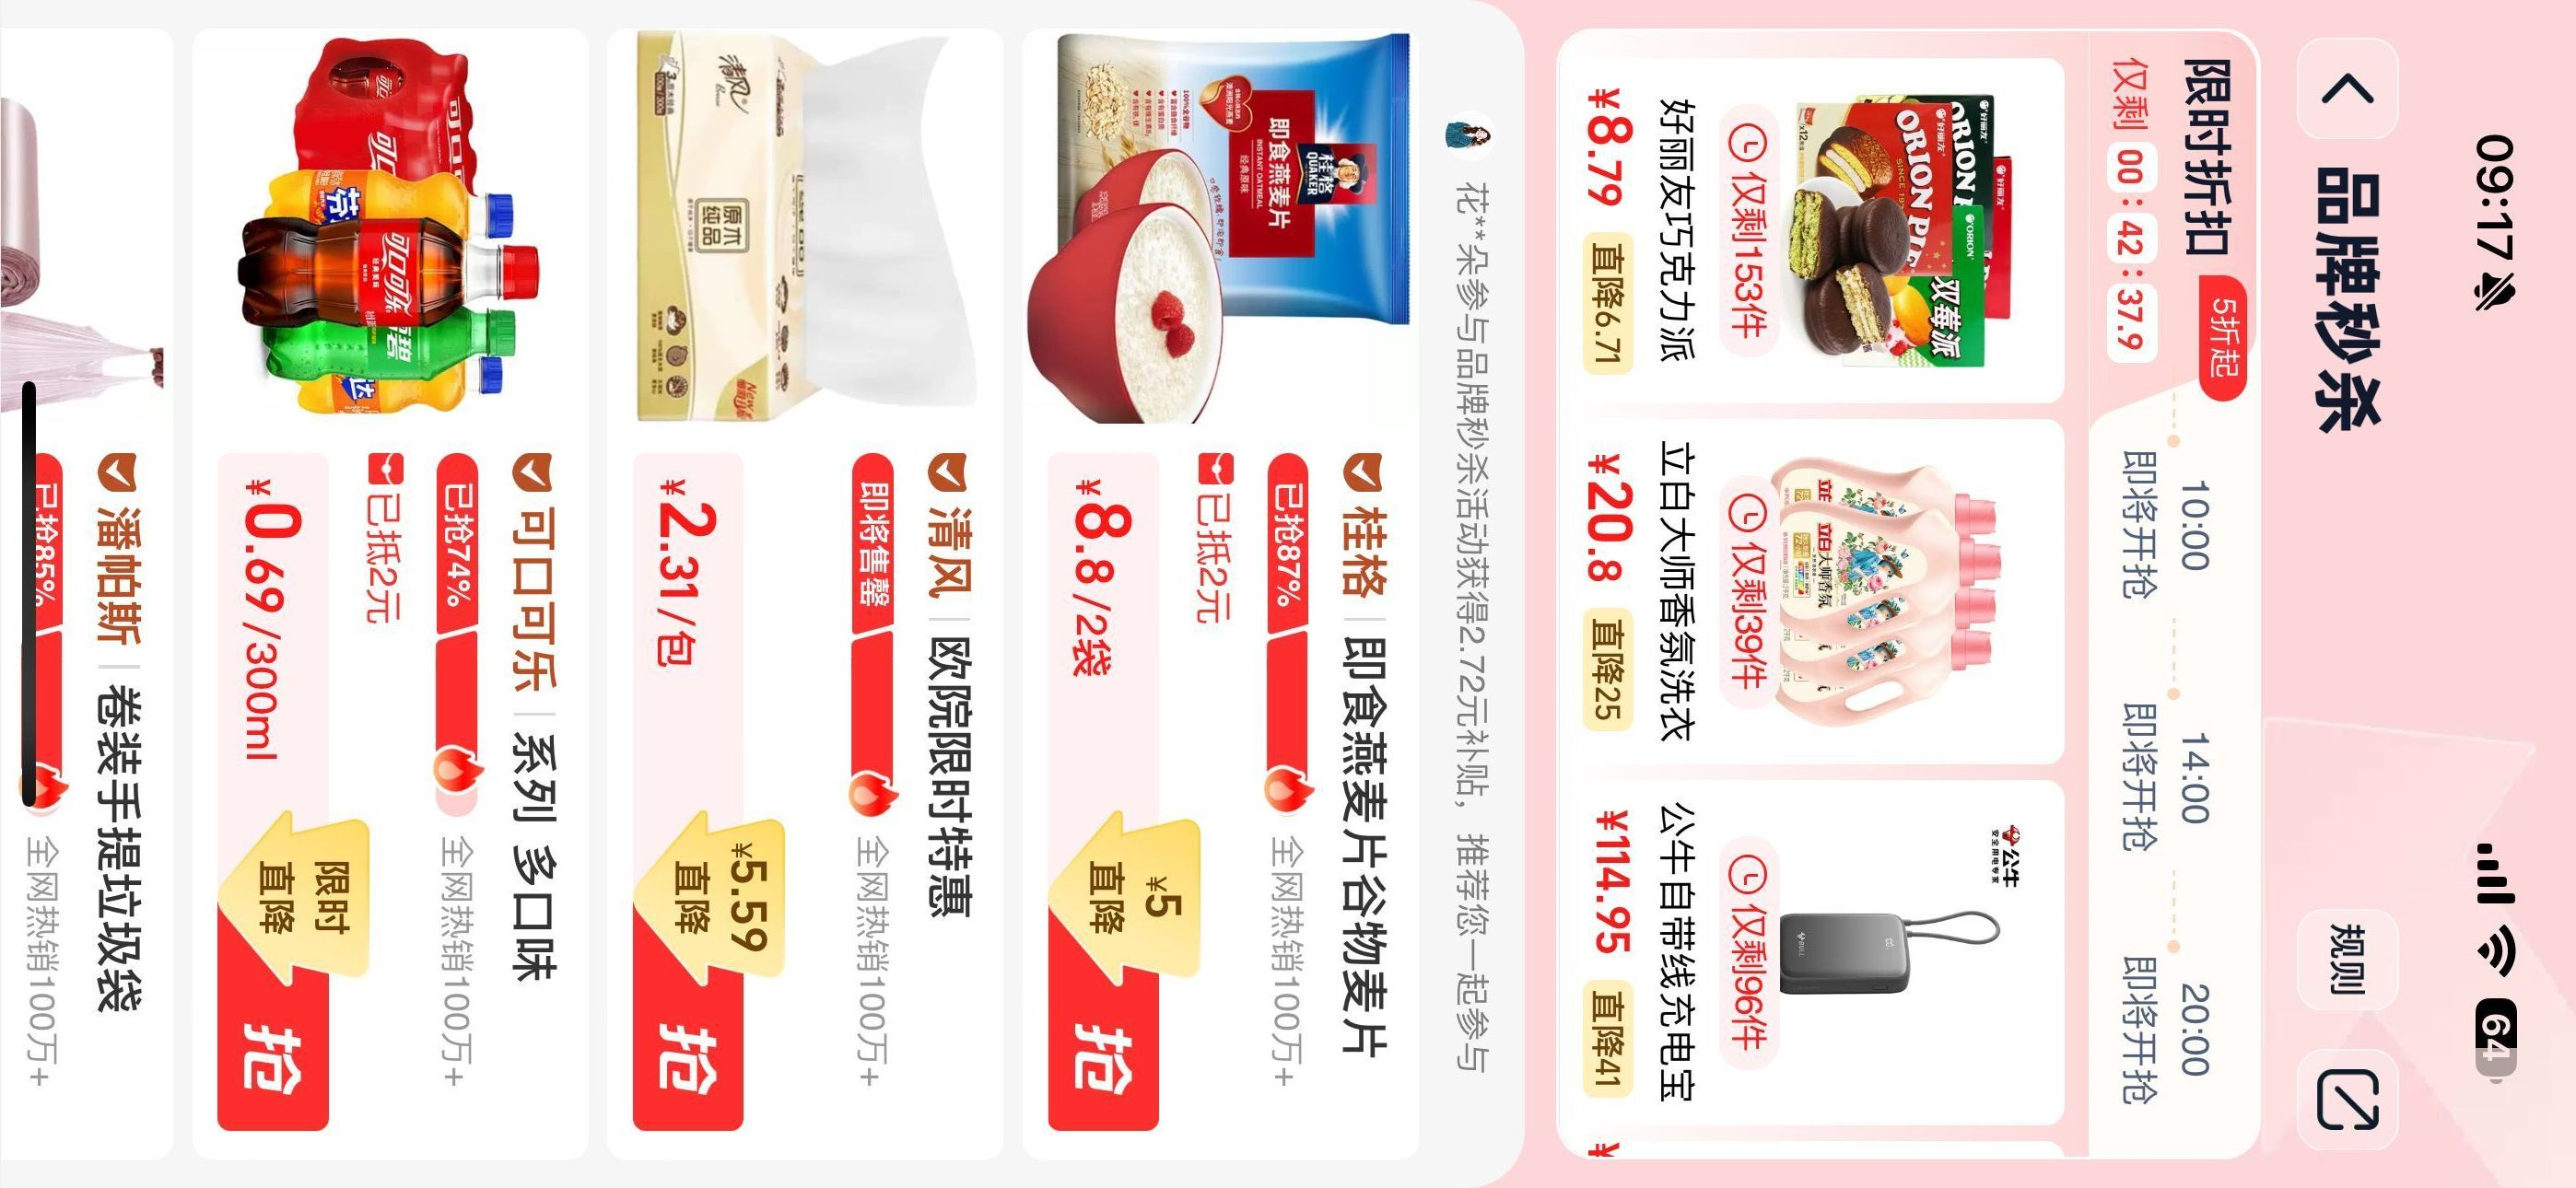item: (600, 5, 1022, 1188), (1027, 5, 1437, 1188), (181, 3, 591, 1178)
op_bar: (2274, 10, 2425, 1181)
seckill: (1548, 10, 2269, 1175)
